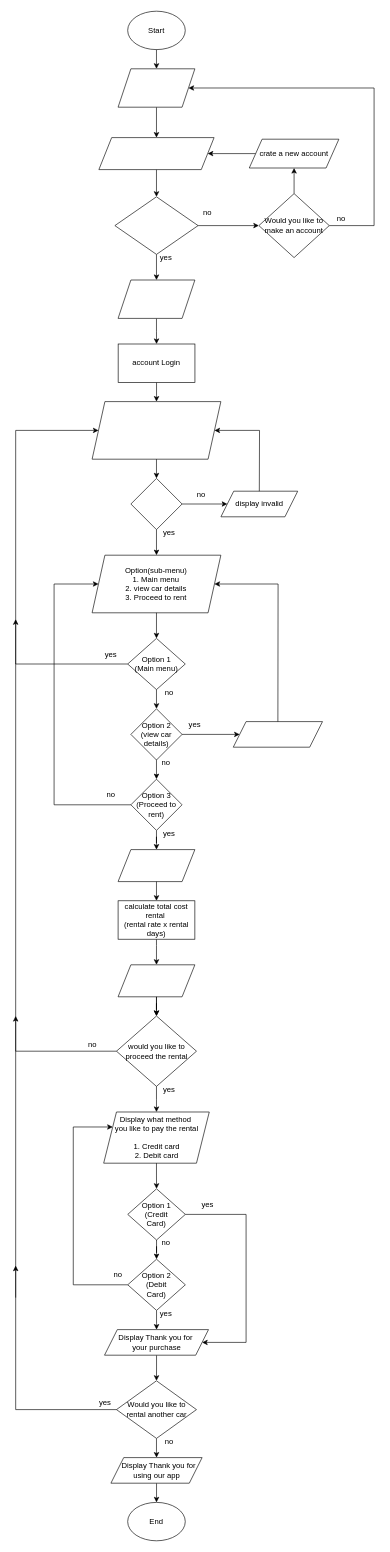
This 390x1552 diagram has some shape labels left out. Here are the shapes that lost their labels. From the top down, the centre of each, then its label:
At (x=156, y=87): "Display welcome".
At (x=156, y=153): "display Login account".
At (x=156, y=225): "Do you have an account".
At (x=156, y=298): "enter account password".
At (x=156, y=430): "Display available cars (menu) 1. Axia 2. Honda City 3. Vellfire".
At (x=156, y=504): "user select car(1~3)".
At (x=277, y=734): "Display car details".
At (x=156, y=865): "Input rental days".
At (x=156, y=980): "Display rental Summary".
